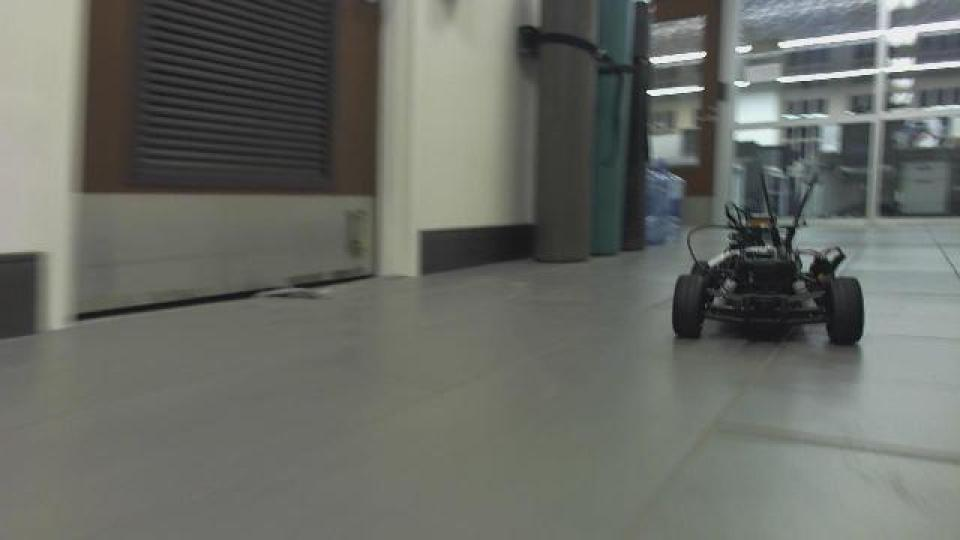car: (667, 162, 867, 348)
